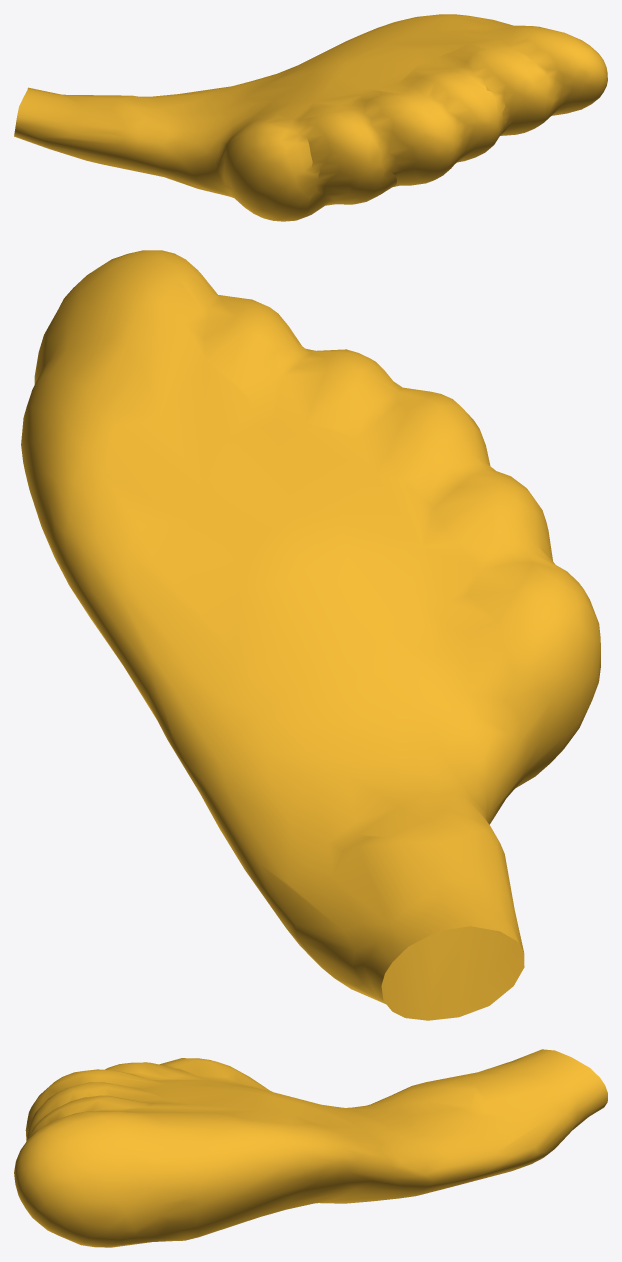
File: nervoso-flocculus-l.glb
3 renders of one model, top to bottom at view 1: azimuth 30°, elevation 25°; view 2: azimuth 150°, elevation 25°; view 3: azimuth 270°, elevation 25°, orthographic. The views are drawn at different scales.
Parts seen in each view (by area): view 1: Flocculus.l; view 2: Flocculus.l; view 3: Flocculus.l.
Boxes of the visible parts, left/top/right/bottom form: Flocculus.l: left=14, top=14, right=607, bottom=221; Flocculus.l: left=21, top=250, right=600, bottom=1020; Flocculus.l: left=14, top=1049, right=607, bottom=1247.
Size of the model in its own units: 0.0184 by 0.00746 by 0.0177.
